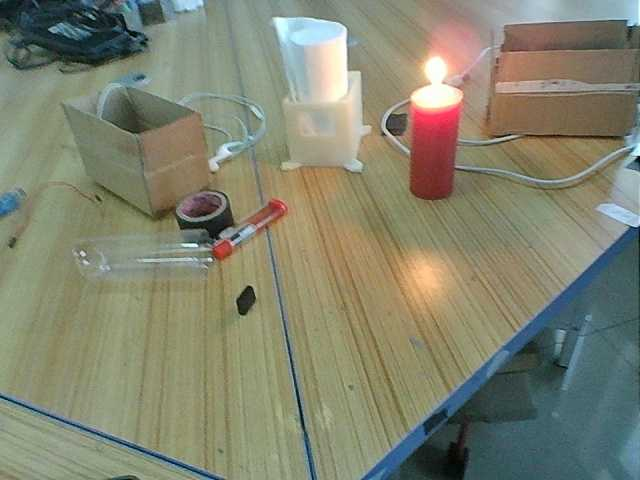candle: (406, 100, 467, 207)
fire: (408, 53, 455, 106)
